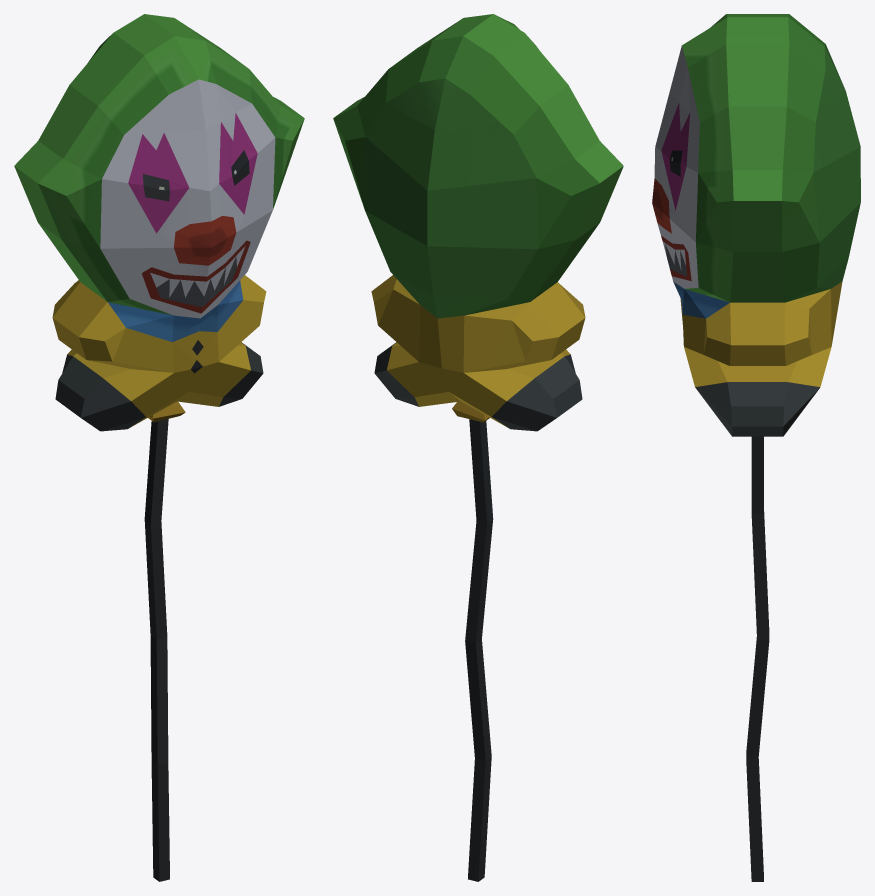
Rendered from balloon.glb.
The picture shows the model from 3 angles, left to right: view 1: azimuth 30°, elevation 25°; view 2: azimuth 150°, elevation 25°; view 3: azimuth 270°, elevation 25°; orthographic projection.
Visible parts, largest first — view 1: SM_Prop_Balloon_01; view 2: SM_Prop_Balloon_01; view 3: SM_Prop_Balloon_01.
Part boxes in pixels (x1,y1,x2,y2): SM_Prop_Balloon_01: [14, 14, 304, 881]; SM_Prop_Balloon_01: [333, 14, 623, 881]; SM_Prop_Balloon_01: [652, 14, 860, 881].
Bounding box in the file's own units: 55.74 × 170 × 37.45.
1 material, 1 textured.
